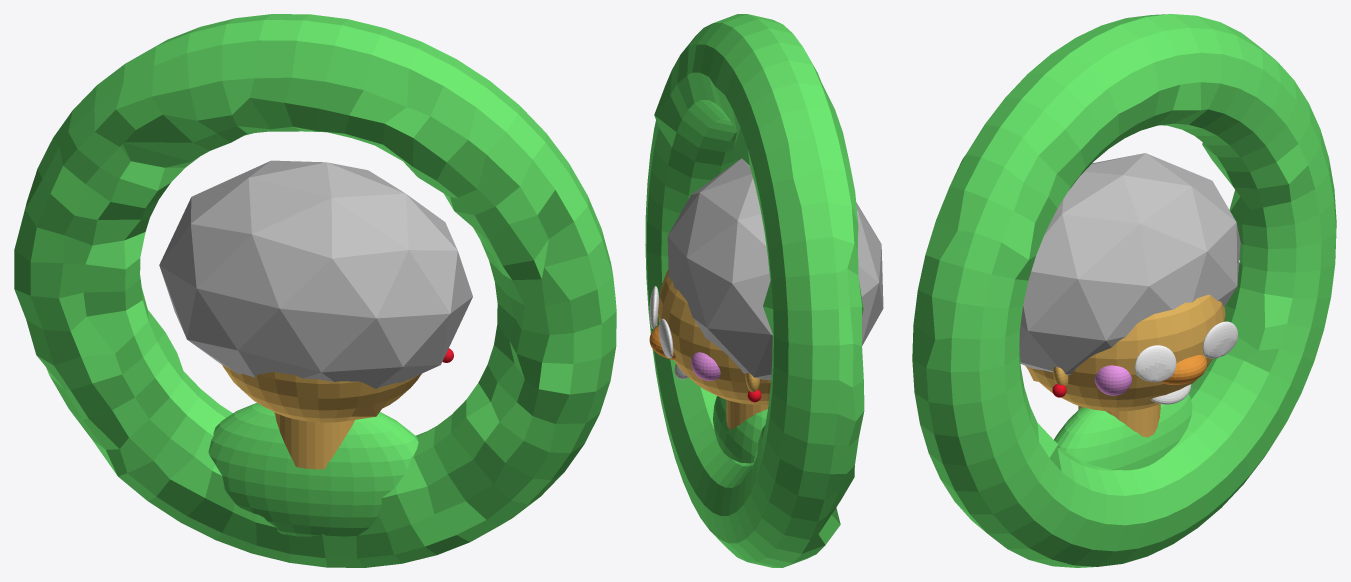
The model's file is abuela 1.fbx.
The picture shows the model from 3 angles, left to right: view 1: azimuth 30°, elevation 25°; view 2: azimuth 150°, elevation 25°; view 3: azimuth 270°, elevation 25°; orthographic projection. The views are drawn at different scales.
Parts seen in each view (by area): view 1: Rosca.001, Esfera geodésica, Esfera.004, Esfera, Cilindro; view 2: Rosca.001, Esfera geodésica, Esfera, Esfera.004, Cilindro, Esfera.008, Esfera.003, Esfera.002; view 3: Rosca.001, Esfera geodésica, Esfera, Esfera.004, Esfera.002, Esfera.003, Cilindro, Esfera.009, Esfera.001.
Boxes of the visible parts, x1=… form: Rosca.001: x1=14, y1=14, x2=616, y2=567; Esfera geodésica: x1=159, y1=160, x2=472, y2=388; Esfera.004: x1=208, y1=403, x2=418, y2=537; Esfera: x1=222, y1=364, x2=421, y2=422; Cilindro: x1=274, y1=412, x2=354, y2=469; Rosca.001: x1=645, y1=14, x2=864, y2=567; Esfera geodésica: x1=667, y1=158, x2=883, y2=380; Esfera: x1=658, y1=269, x2=770, y2=404; Esfera.004: x1=713, y1=396, x2=767, y2=463; Cilindro: x1=726, y1=400, x2=768, y2=429; Esfera.008: x1=691, y1=352, x2=720, y2=380; Esfera.003: x1=659, y1=318, x2=673, y2=358; Esfera.002: x1=649, y1=286, x2=658, y2=329; Rosca.001: x1=912, y1=14, x2=1336, y2=567; Esfera geodésica: x1=1019, y1=153, x2=1240, y2=375; Esfera: x1=1025, y1=294, x2=1225, y2=411; Esfera.004: x1=1054, y1=393, x2=1192, y2=470; Esfera.002: x1=1134, y1=345, x2=1176, y2=382; Esfera.003: x1=1202, y1=321, x2=1237, y2=358; Cilindro: x1=1078, y1=404, x2=1160, y2=437; Esfera.009: x1=1094, y1=365, x2=1131, y2=395; Esfera.001: x1=1161, y1=355, x2=1207, y2=384.
Bounding box in the file's own units: 476 × 615 × 459.
